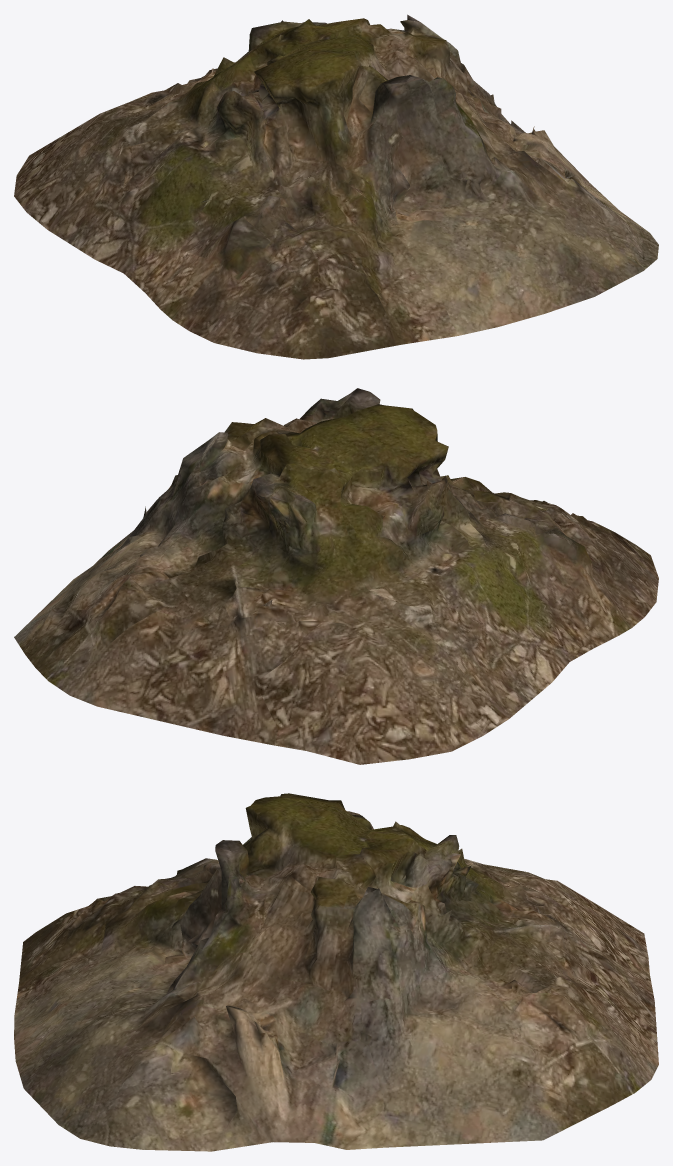
File: tree_stump_01.glb
3 renders of one model, top to bottom at view 1: azimuth 30°, elevation 25°; view 2: azimuth 150°, elevation 25°; view 3: azimuth 270°, elevation 25°, orthographic. The views are drawn at different scales.
Visible parts, largest first — view 1: tree_stump_01; view 2: tree_stump_01; view 3: tree_stump_01.
Boxes of the visible parts, x1=… form: tree_stump_01: x1=14, y1=14, x2=658, y2=359; tree_stump_01: x1=14, y1=388, x2=658, y2=764; tree_stump_01: x1=14, y1=793, x2=658, y2=1151.
Bounding box in the file's own units: 1.43 × 0.571 × 1.59.
Materials: 1 (1 with a texture image).
